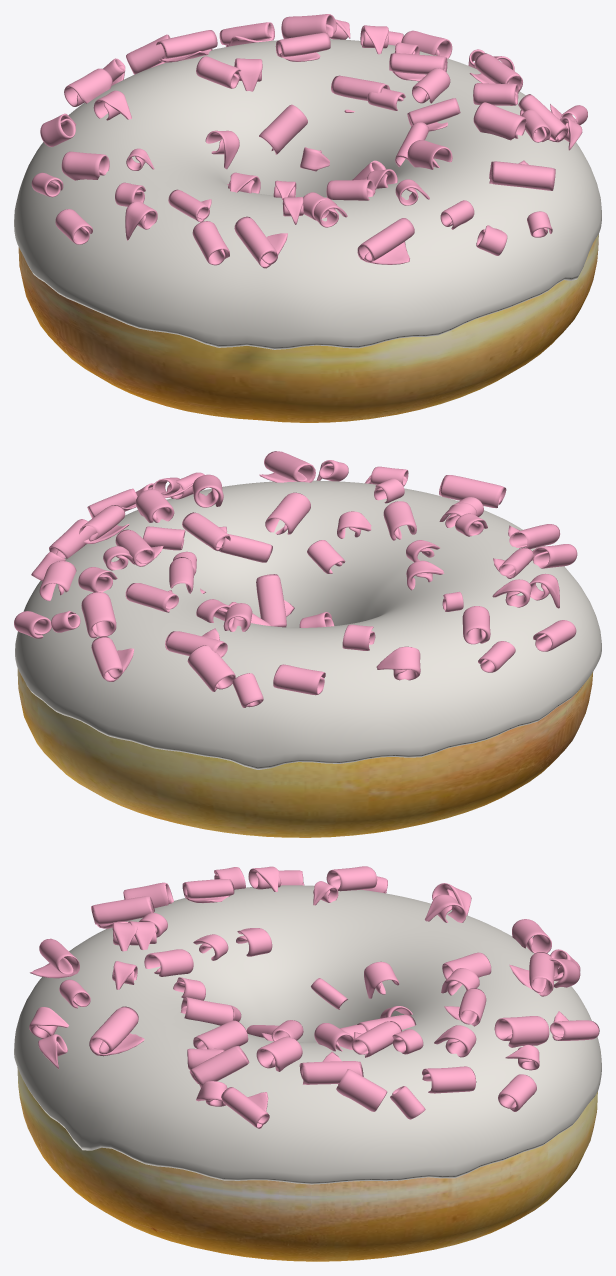
File: white strawberry curls.glb
3 views of the same model, one above another, from view 1: azimuth 30°, elevation 25°; view 2: azimuth 150°, elevation 25°; view 3: azimuth 270°, elevation 25° (orthographic). The views are drawn at different scales.
Parts seen in each view (by area): view 1: chocolate.003, choco & straw, Torus; view 2: chocolate.003, choco & straw, Torus; view 3: chocolate.003, choco & straw, Torus.
Part boxes in pixels (x1,y1,x2,y2): chocolate.003: [14, 39, 601, 349]; choco & straw: [31, 14, 587, 268]; Torus: [18, 234, 598, 422]; chocolate.003: [15, 480, 601, 769]; choco & straw: [14, 451, 577, 707]; Torus: [17, 668, 592, 837]; chocolate.003: [14, 885, 601, 1184]; choco & straw: [29, 866, 599, 1128]; Torus: [17, 1067, 597, 1261].
Bounding box in the file's own units: 0.1988 × 0.0804 × 0.1971.
Materials: 3 (1 with a texture image).
